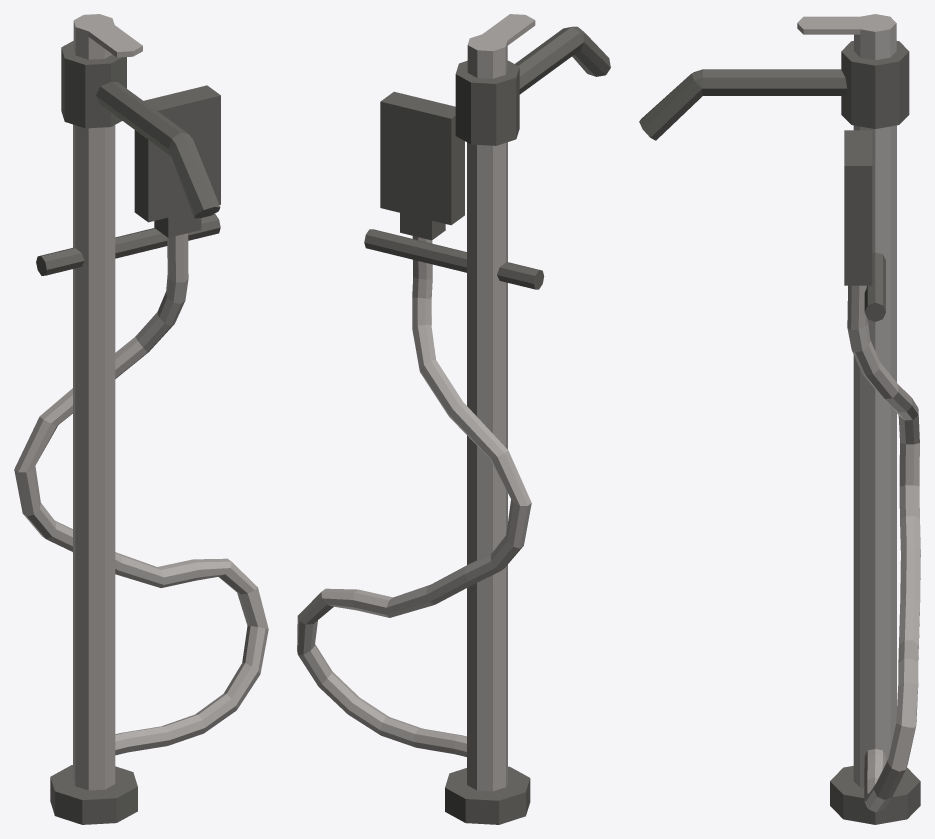
File: Bathroom2_faucet.fbx
The picture shows the model from 3 angles, left to right: view 1: azimuth 30°, elevation 25°; view 2: azimuth 150°, elevation 25°; view 3: azimuth 270°, elevation 25°; orthographic projection. The views are drawn at different scales.
Parts seen in each view (by area): view 1: Bathroom2_faucet; view 2: Bathroom2_faucet; view 3: Bathroom2_faucet.
Boxes of the visible parts, bbox=[...] form: Bathroom2_faucet: bbox=[14, 14, 268, 824]; Bathroom2_faucet: bbox=[297, 14, 610, 824]; Bathroom2_faucet: bbox=[639, 14, 920, 824].
Bounding box in the file's own units: 52.38 × 52.44 × 161.
